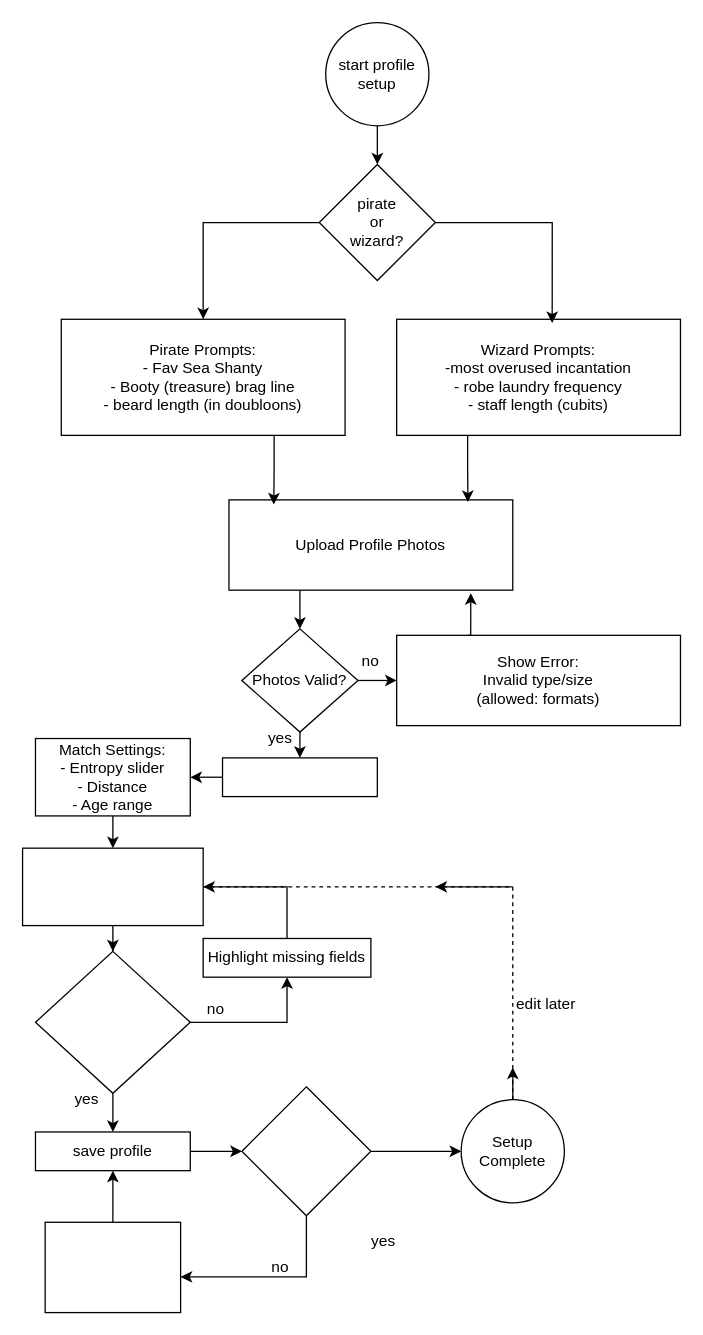
The diagram is 703 pixels wide and 1335 high, and some of its shapes have lost their labels. Each missing label, with the centre of its shape:
Required Fields Complete?: pixel 112 1021
Review & Preview profile: pixel 112 886
saved successfully?: pixel 306 1151
Show Error: Server/Network Try Again: pixel 112 1267
write short bio: pixel 299 777
